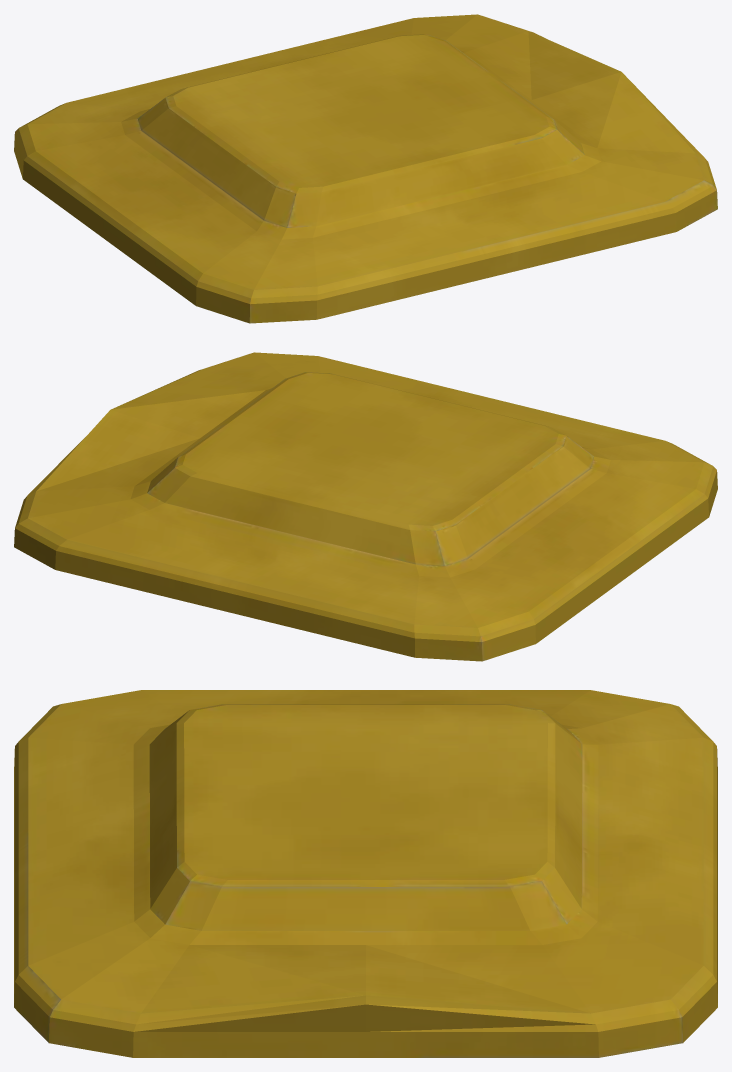
The model's file is strProp_42.glb.
3 views of the same model, one above another, from view 1: azimuth 30°, elevation 25°; view 2: azimuth 150°, elevation 25°; view 3: azimuth 270°, elevation 25° (orthographic). The views are drawn at different scales.
Parts seen in each view (by area): view 1: geometry_0; view 2: geometry_0; view 3: geometry_0.
Boxes of the visible parts, x1,y1,x2,y2 form: geometry_0: (14,14,717,323); geometry_0: (14,352,717,661); geometry_0: (14,690,717,1057).
Bounding box in the file's own units: 0.6011 × 0.0779 × 0.529.
1 material, 1 textured.
